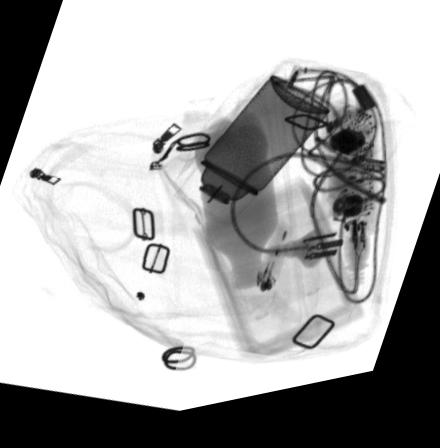Lighter: (248, 235, 292, 310)
Sprayer: (175, 86, 330, 236)
